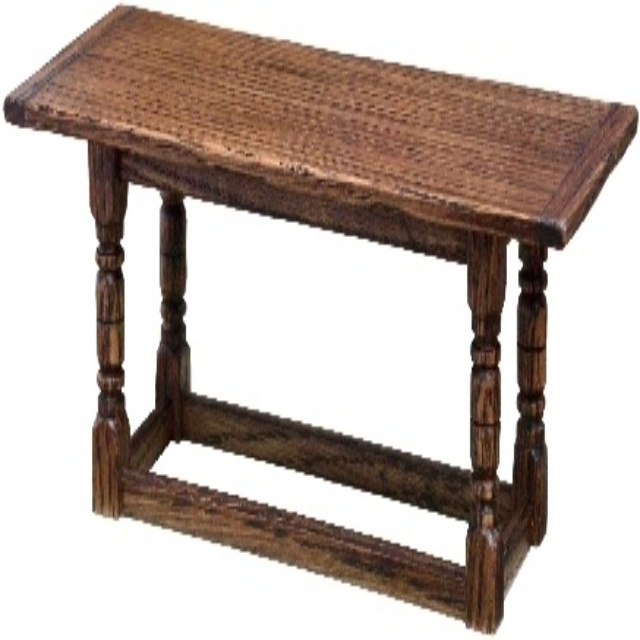obstacle: (0, 0, 469, 634), (498, 125, 639, 634), (138, 0, 639, 108)
